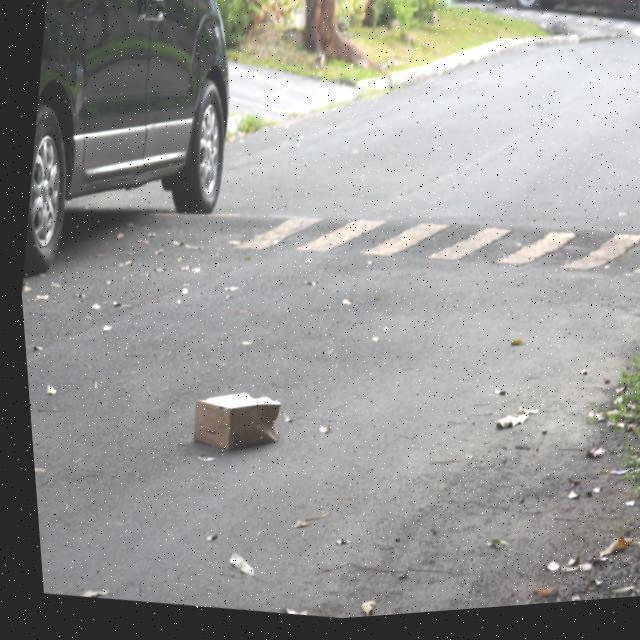Paper_Bag: (182, 386, 280, 464)
